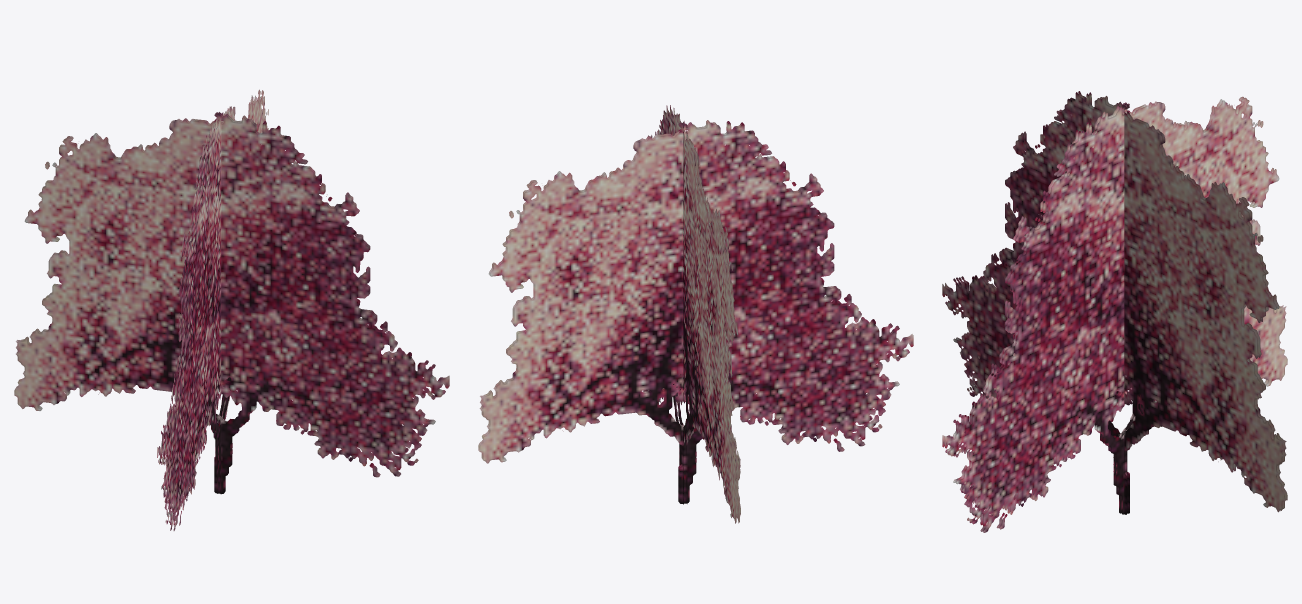
File: tree071.fbx
The picture shows the model from 3 angles, left to right: view 1: azimuth 30°, elevation 25°; view 2: azimuth 150°, elevation 25°; view 3: azimuth 270°, elevation 25°; orthographic projection. The views are drawn at different scales.
Parts seen in each view (by area): view 1: tree071; view 2: tree071; view 3: tree071.
Boxes of the visible parts, left/top/right/bottom form: tree071: left=14, top=89, right=449, bottom=530; tree071: left=478, top=105, right=913, bottom=523; tree071: left=942, top=91, right=1287, bottom=532.
Size of the model in its own units: 254 by 335 by 241.
1 material, 1 textured.
